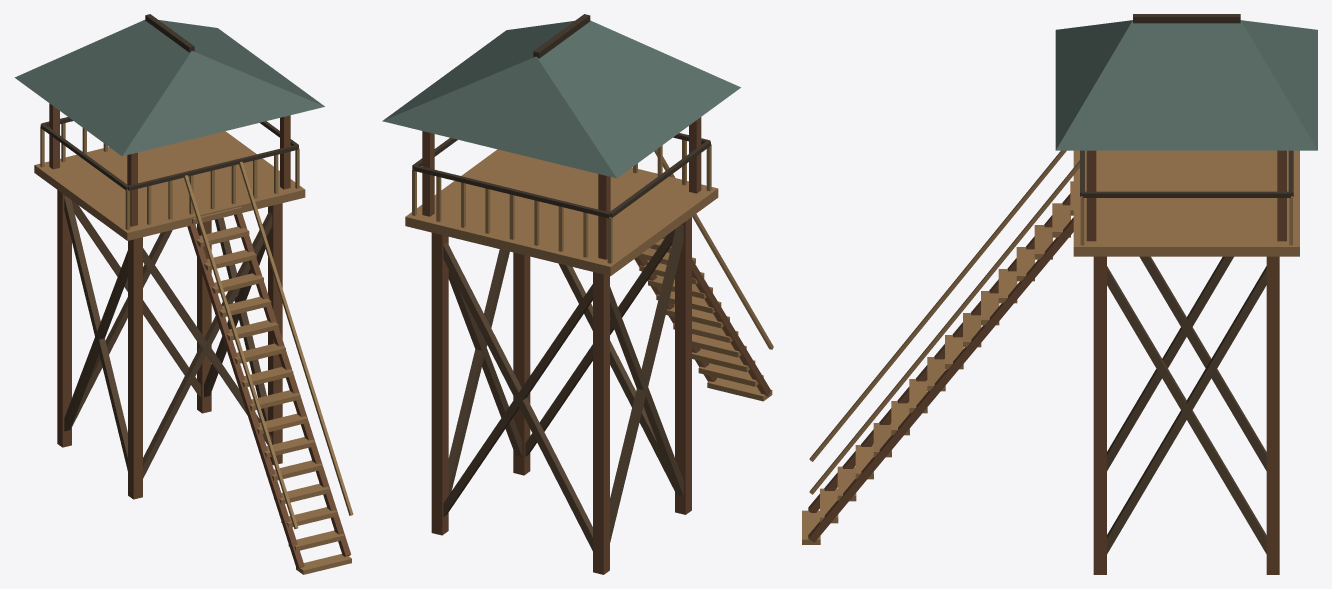
Rendered from Building_Landmark_Watchtower_001.glb.
The picture shows the model from 3 angles, left to right: view 1: azimuth 30°, elevation 25°; view 2: azimuth 150°, elevation 25°; view 3: azimuth 270°, elevation 25°; orthographic projection. The views are drawn at different scales.
Visible parts, largest first — view 1: Building_Landmark_Watchtower_001; view 2: Building_Landmark_Watchtower_001; view 3: Building_Landmark_Watchtower_001.
Part boxes in pixels (x1,y1,x2,y2): Building_Landmark_Watchtower_001: (14, 14, 353, 574); Building_Landmark_Watchtower_001: (382, 14, 773, 574); Building_Landmark_Watchtower_001: (802, 14, 1317, 574).
Bounding box in the file's own units: 4.8 × 9.54 × 8.65.
